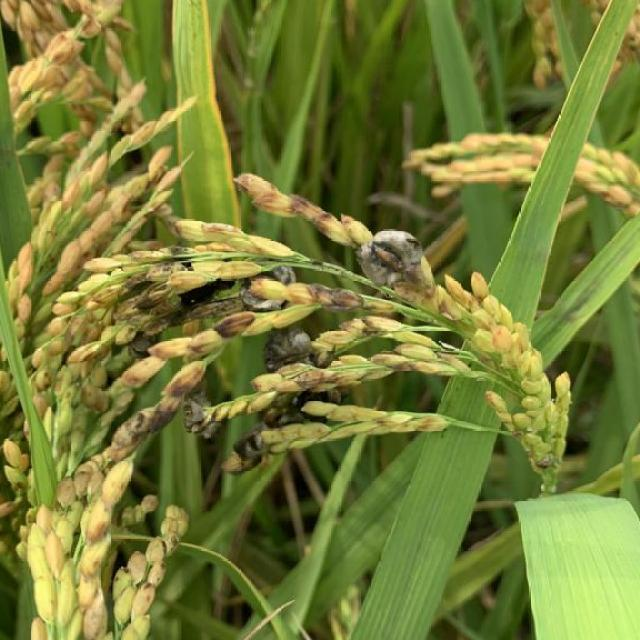Leaf_Scald: (261, 331, 342, 425), (356, 226, 424, 290), (238, 260, 296, 314), (180, 390, 222, 440)
